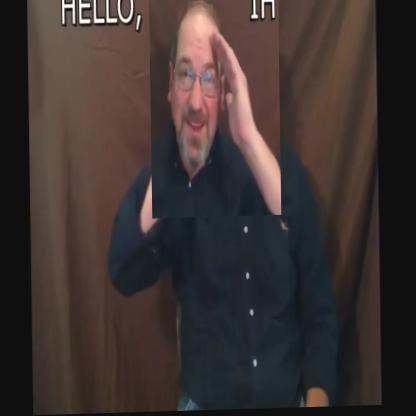Hello: (149, 0, 281, 220)
